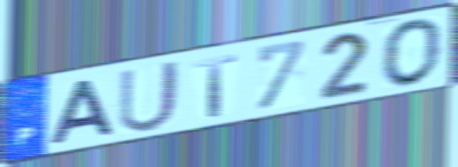2: (318, 28, 374, 104)
7: (255, 37, 307, 114)
A: (47, 77, 118, 148)
O: (379, 15, 445, 90)
T: (192, 51, 240, 119)
U: (117, 57, 183, 136)
